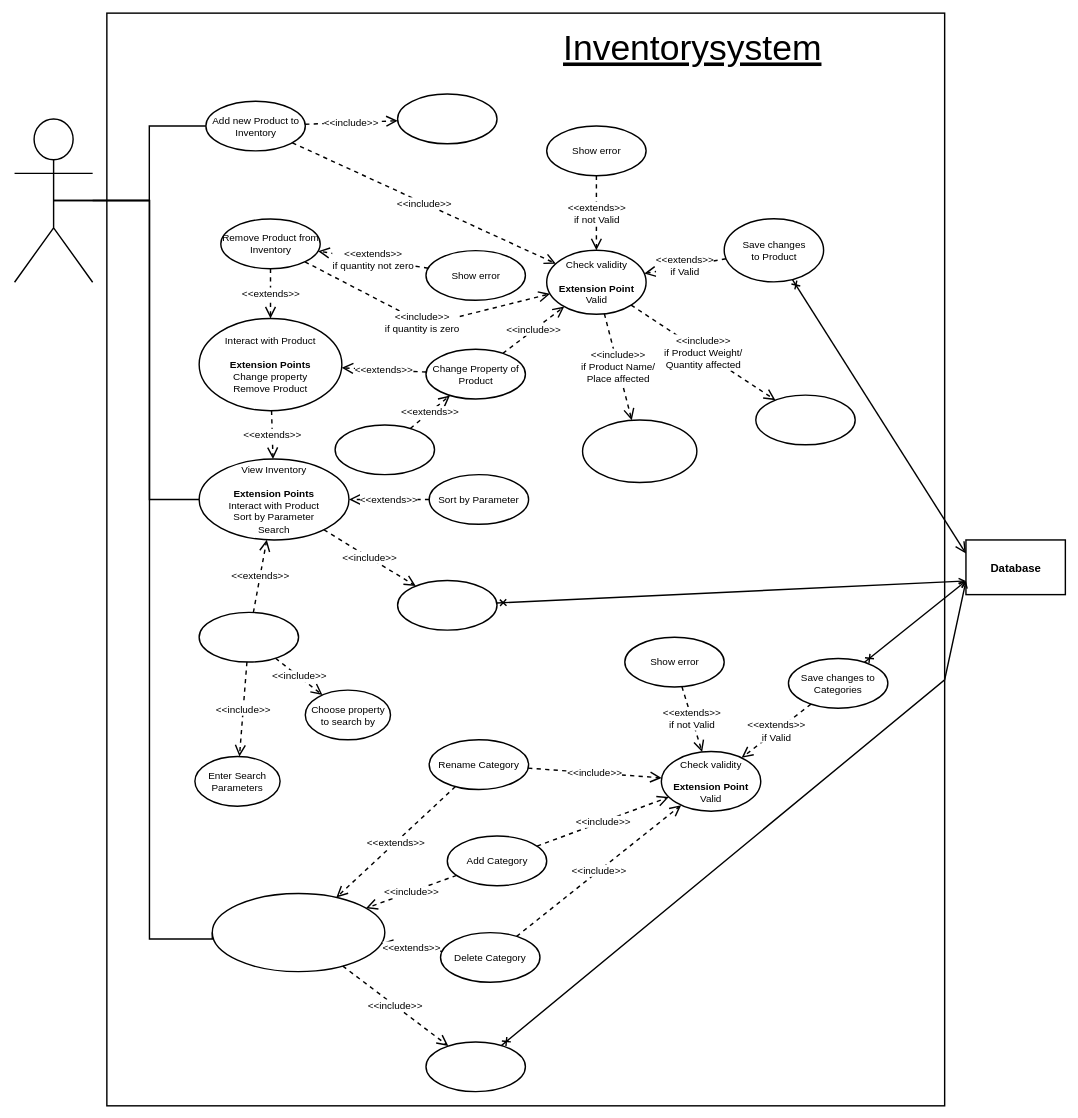
Image size: 1078x1118. Some labels were removed from this diagram. The centre of each missing label's shape, as x and y in pixels:
"Assign Category" goes at point (384, 449).
"Check for uniqueness of Product Name/ Product Place" goes at point (639, 451).
"Check shelf capicity" goes at point (805, 419).
"Query Categories" goes at point (475, 1066).
"Query Inventory" goes at point (447, 604).
"Search" goes at point (248, 636).
"Set all properties for new Product" goes at point (447, 118).
"User (Inventory Worker)" goes at point (53, 200).
"View Categories Extension Points Add Category Delete Category Rename Category" goes at point (298, 932).
